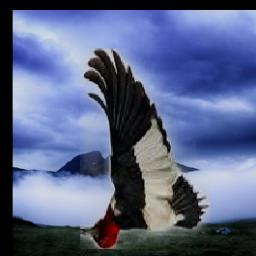Woodpecker: (79, 49, 210, 250)
